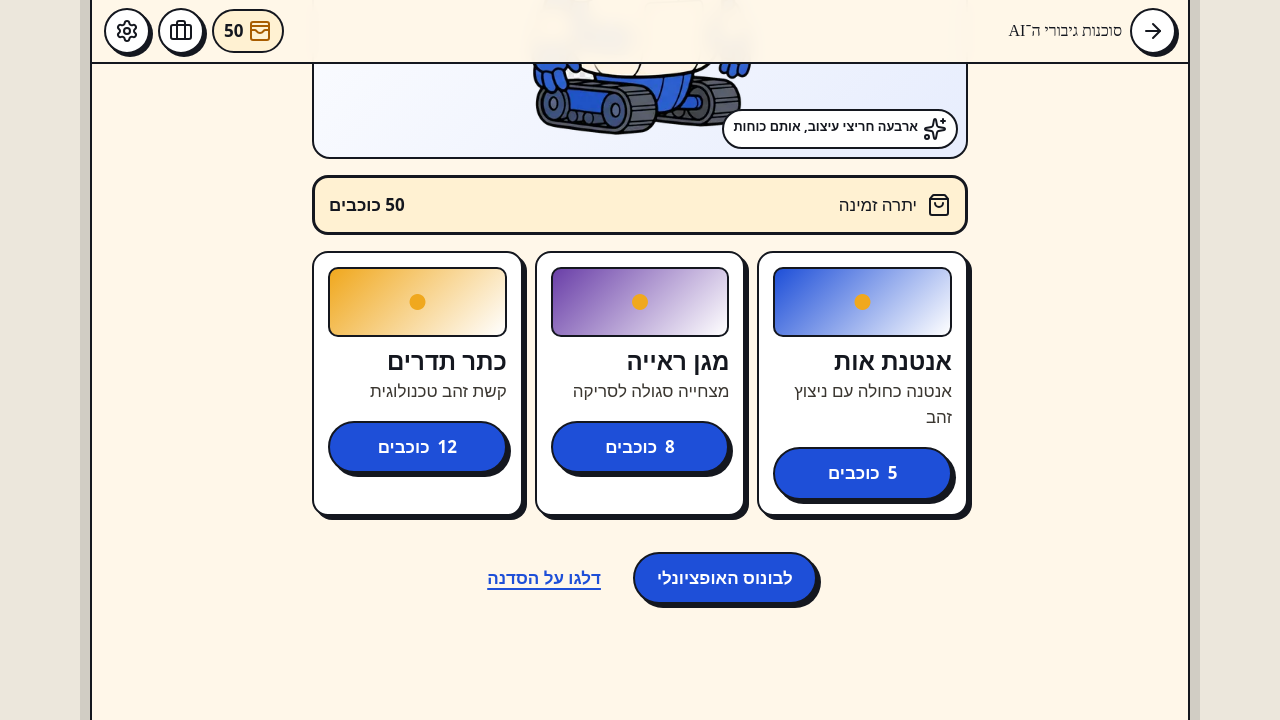
workshop preview reflects an equipped cosmetic immediately (the original reported bug) › a second click on the now-"equipped" (disabled) button does not re-charge the wallet
(page scrolled)
Click the button "5 כוכבים". click: point(863, 473)
box: [773,447,952,500]
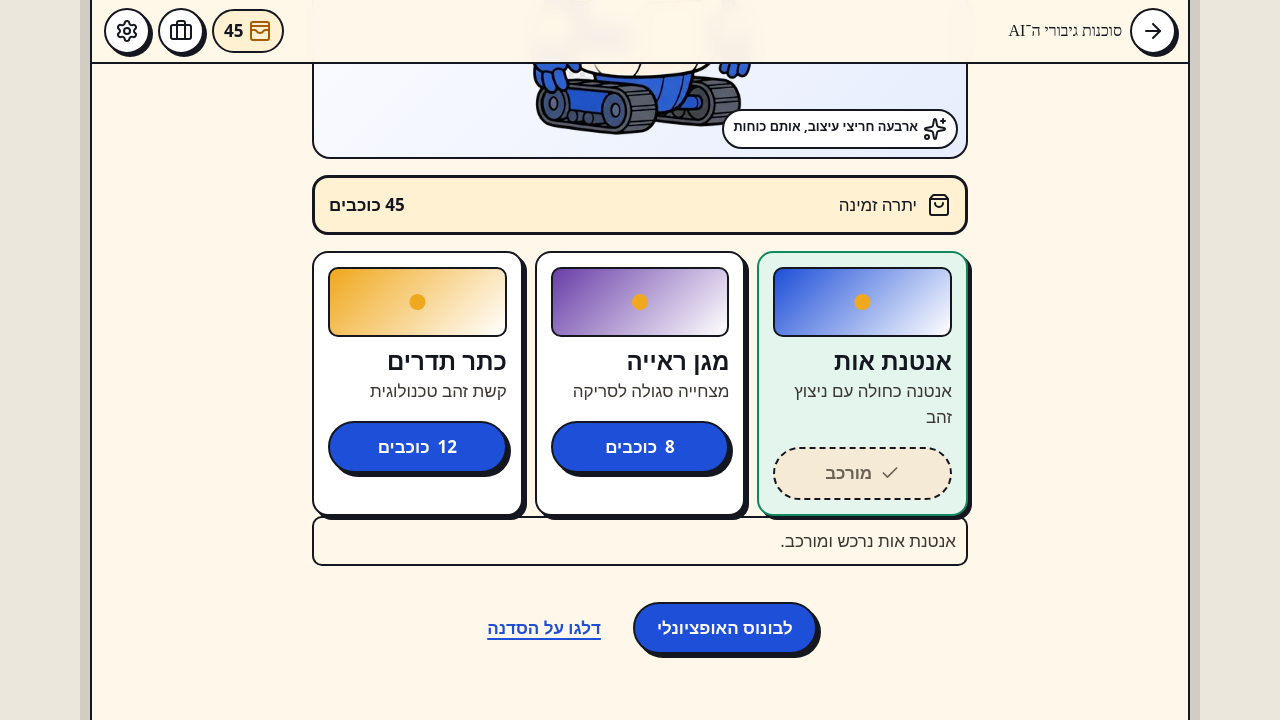
Expected: the button "מורכב" is disabled, [773,447,952,500]
